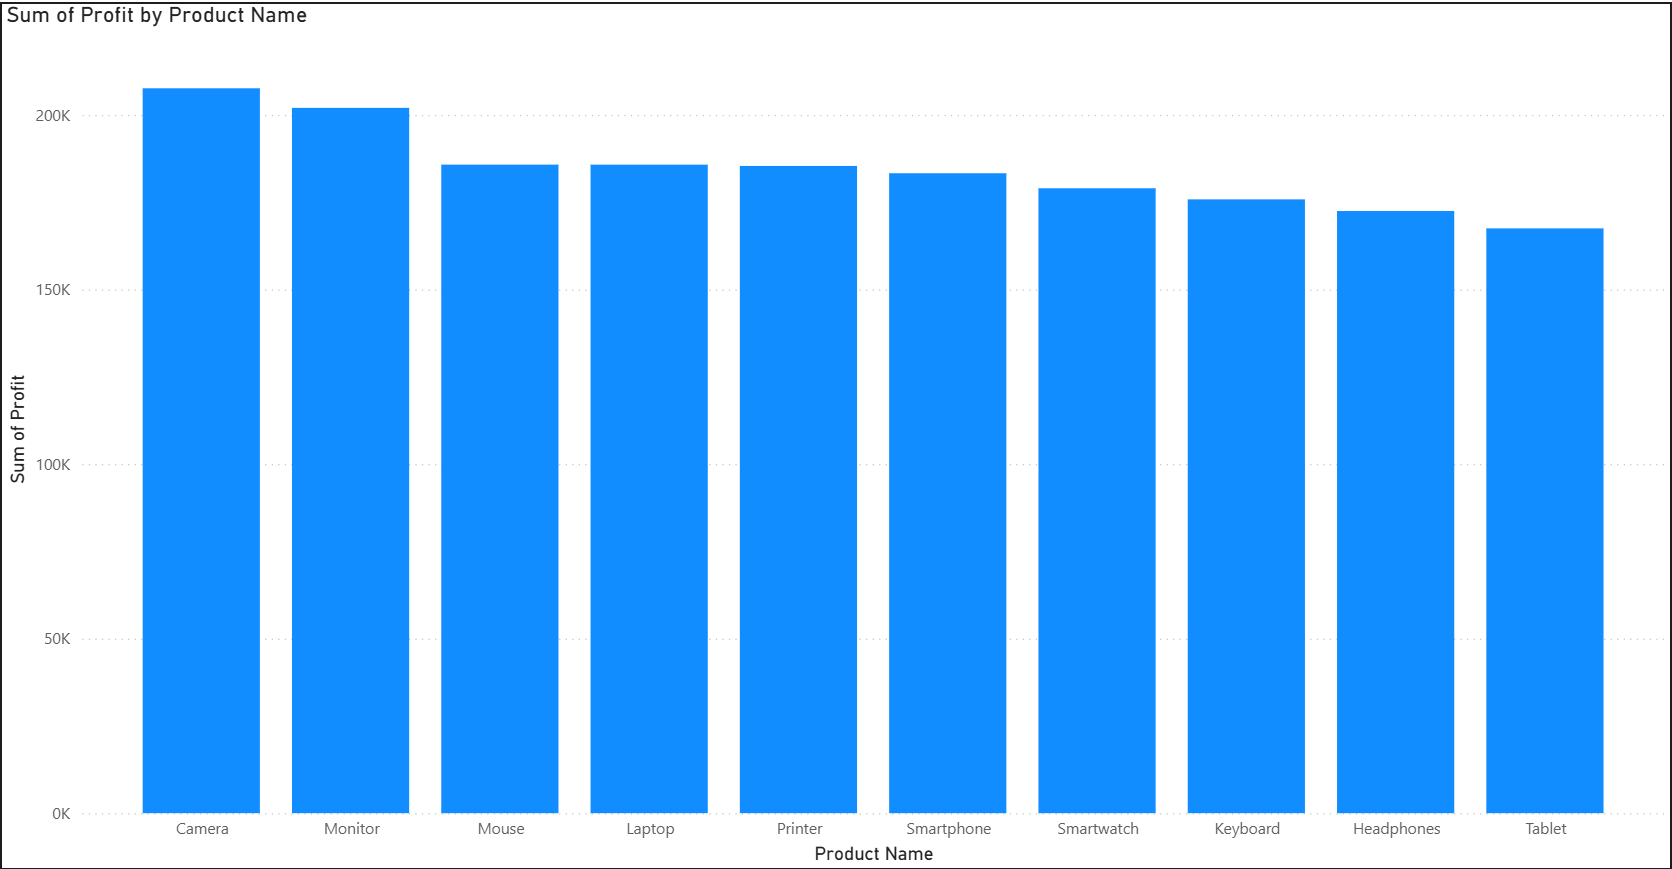

The dashboard page shown, as its layout file describes it:
{"tool":"powerbi","page":{"name":"Page 3","canvas":[1280,720],"ordinal":2},"visuals":[{"type":"clusteredColumnChart","fields":{"Y":["Sum(ecommerce_added_columns (4).Profit)"],"Category":["ecommerce_added_columns (4).Product Name"]},"box":[0,55.1,1280,664.5],"z":0}]}

Visuals, with their boxes on the page's 1280x720 design canvas (x1, y1, x2, y2). These are canvas units, not pixel positions in the 1672x869 screenshot, which may show the page scaled, cropped or inside an application window:
clusteredColumnChart - Sum(ecommerce_added_columns (4).Profit) x ecommerce_added_columns (4).Product Name: (0,55,1280,720)
